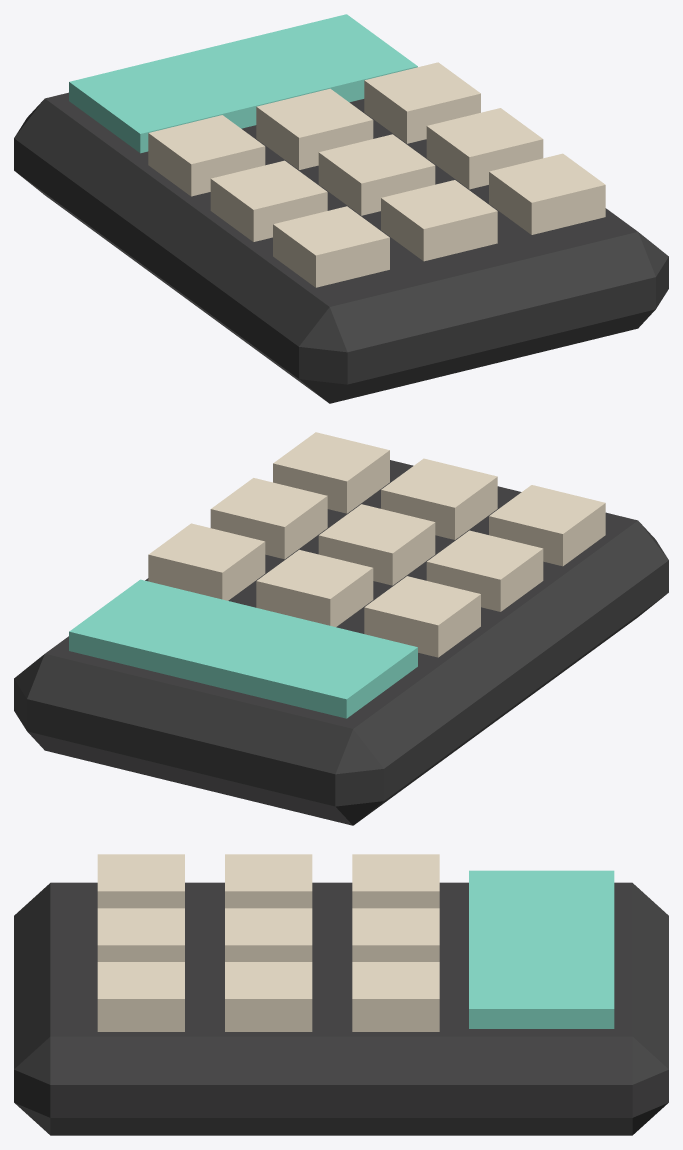
The picture shows the model from 3 angles, top to bottom: view 1: azimuth 30°, elevation 25°; view 2: azimuth 150°, elevation 25°; view 3: azimuth 270°, elevation 25°; orthographic projection. The views are drawn at different scales.
Parts seen in each view (by area): view 1: Calculator, Readout, Key, Key.003, Key.006, Key.004, Key.001, Key.005, Key.002, Key.007, Key.008; view 2: Calculator, Readout, Key.002, Key.008, Key.005, Key.004, Key.001, Key.007, Key.003, Key.006, Key; view 3: Calculator, Readout, Key.006, Key.007, Key.008, Key.002, Key, Key.001, Key.003, Key.004, Key.005.
Boxes of the visible parts, x1,y1,x2,y2 form: Calculator: (14, 92, 668, 403); Readout: (69, 14, 417, 153); Key: (273, 206, 389, 287); Key.003: (381, 180, 497, 261); Key.006: (489, 153, 605, 234); Key.004: (318, 134, 435, 215); Key.001: (210, 160, 327, 241); Key.005: (256, 88, 373, 169); Key.002: (148, 115, 265, 196); Key.007: (426, 108, 543, 189); Key.008: (364, 62, 480, 143); Calculator: (14, 460, 668, 825); Readout: (69, 579, 417, 718); Key.002: (364, 576, 480, 657); Key.008: (148, 523, 265, 600); Key.005: (256, 549, 373, 626); Key.004: (318, 504, 435, 585); Key.001: (426, 530, 543, 611); Key.007: (210, 478, 327, 559); Key.003: (381, 458, 497, 539); Key.006: (273, 432, 389, 513); Key: (489, 485, 605, 566); Calculator: (14, 882, 668, 1135); Readout: (469, 870, 614, 1028); Key.006: (97, 962, 184, 1031); Key.007: (225, 962, 312, 1031); Key.008: (352, 962, 439, 1031); Key.002: (352, 854, 439, 908); Key: (97, 854, 184, 908); Key.001: (225, 854, 312, 908); Key.003: (97, 908, 184, 961); Key.004: (225, 908, 312, 961); Key.005: (352, 908, 439, 961).
Bounding box in the file's own units: 12 × 4 × 18.
